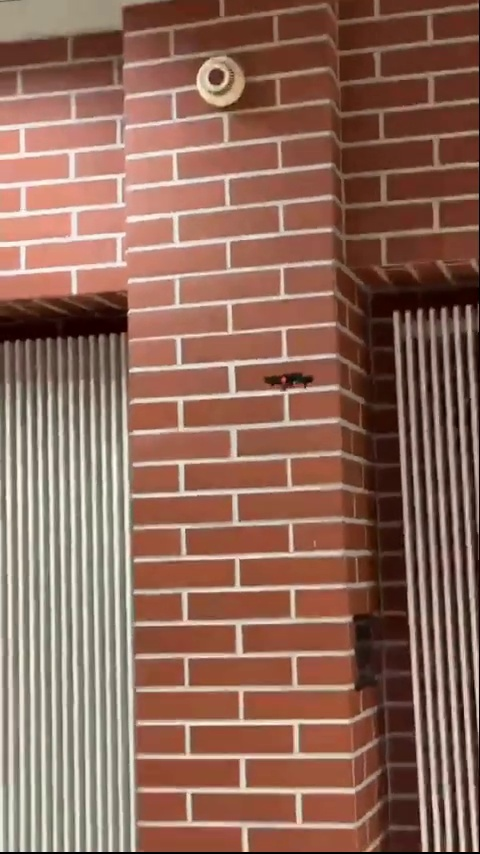drone: (266, 373, 318, 395)
